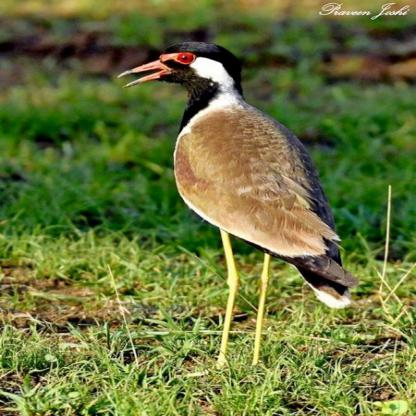Burung: (116, 41, 358, 365)
